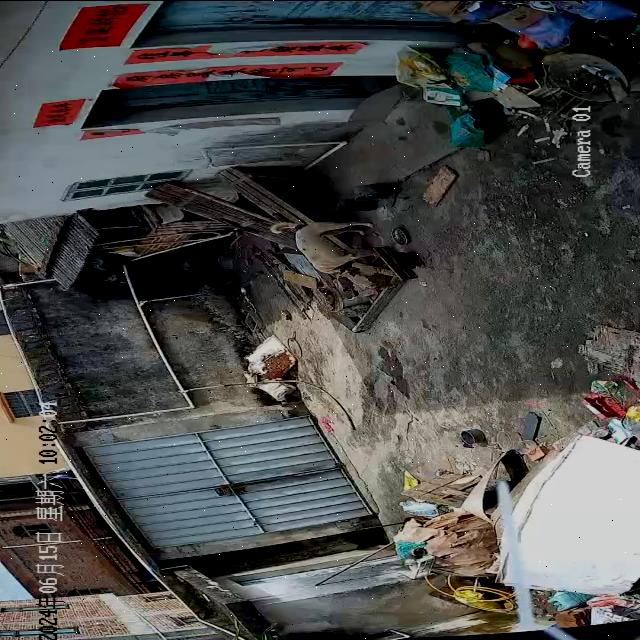dog: (270, 221, 379, 275)
